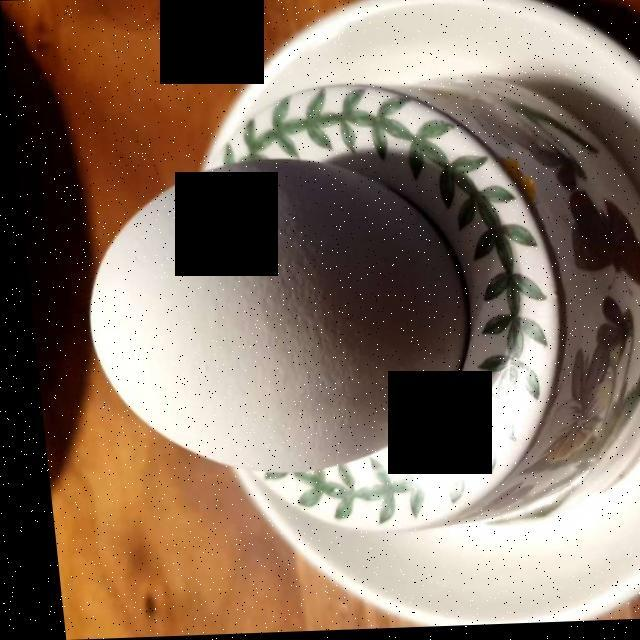egg: (91, 124, 493, 471)
